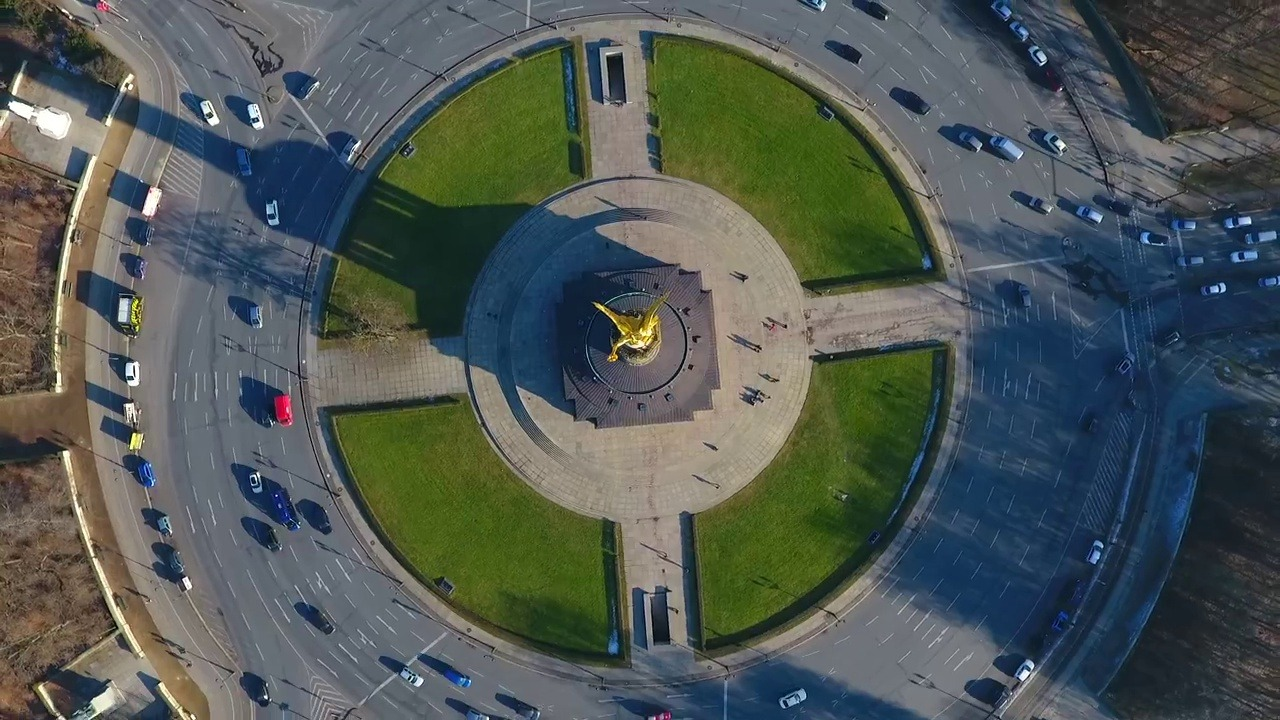car: (1039, 124, 1073, 163), (196, 95, 225, 134), (777, 683, 814, 712), (233, 141, 257, 184), (1070, 203, 1108, 230), (953, 125, 986, 156), (243, 98, 270, 135), (261, 194, 286, 231), (1026, 192, 1059, 220), (1023, 39, 1053, 69), (1011, 655, 1038, 687), (397, 664, 427, 692), (1224, 247, 1263, 267), (1170, 251, 1211, 270), (1198, 275, 1230, 299), (122, 355, 144, 389), (1221, 210, 1255, 232), (1166, 216, 1205, 233)
van: (986, 128, 1028, 164), (1235, 225, 1280, 248), (274, 388, 299, 429)
